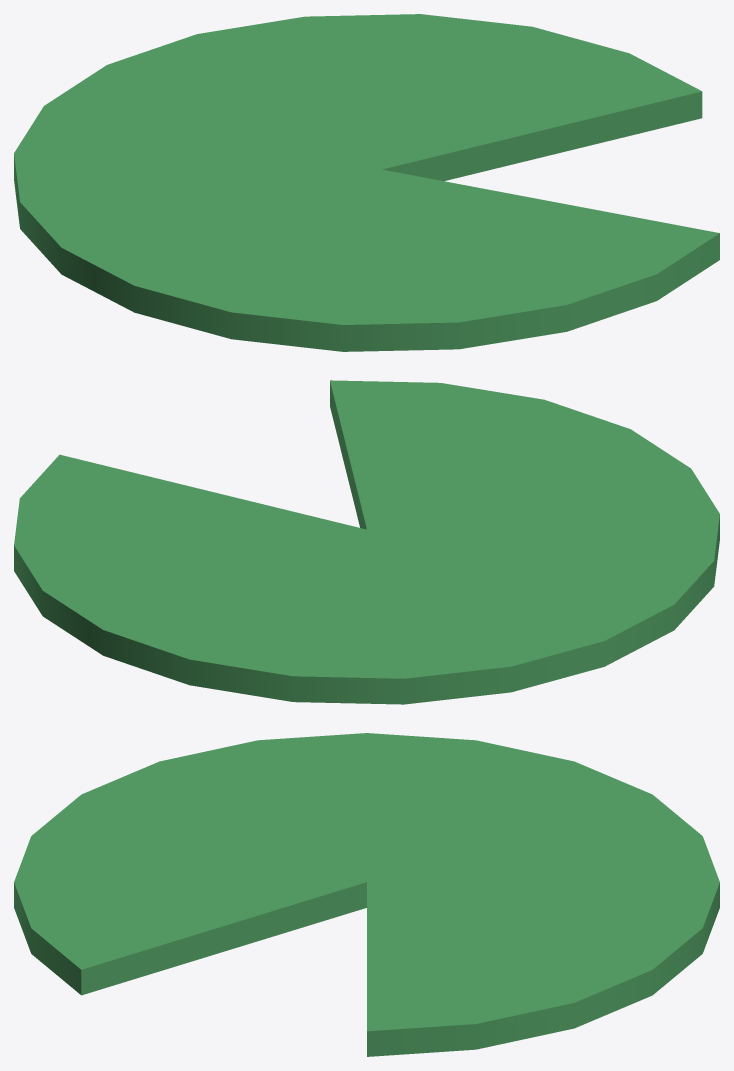
The model's file is lilypad.fbx.
3 views of the same model, one above another, from view 1: azimuth 30°, elevation 25°; view 2: azimuth 150°, elevation 25°; view 3: azimuth 270°, elevation 25° (orthographic). The views are drawn at different scales.
Parts seen in each view (by area): view 1: LilyPad; view 2: LilyPad; view 3: LilyPad.
Boxes of the visible parts, x1,y1,x2,y2 form: LilyPad: (14,14,719,351); LilyPad: (14,380,719,704); LilyPad: (14,733,719,1056).
Bounding box in the file's own units: 200 × 8.01 × 200.
